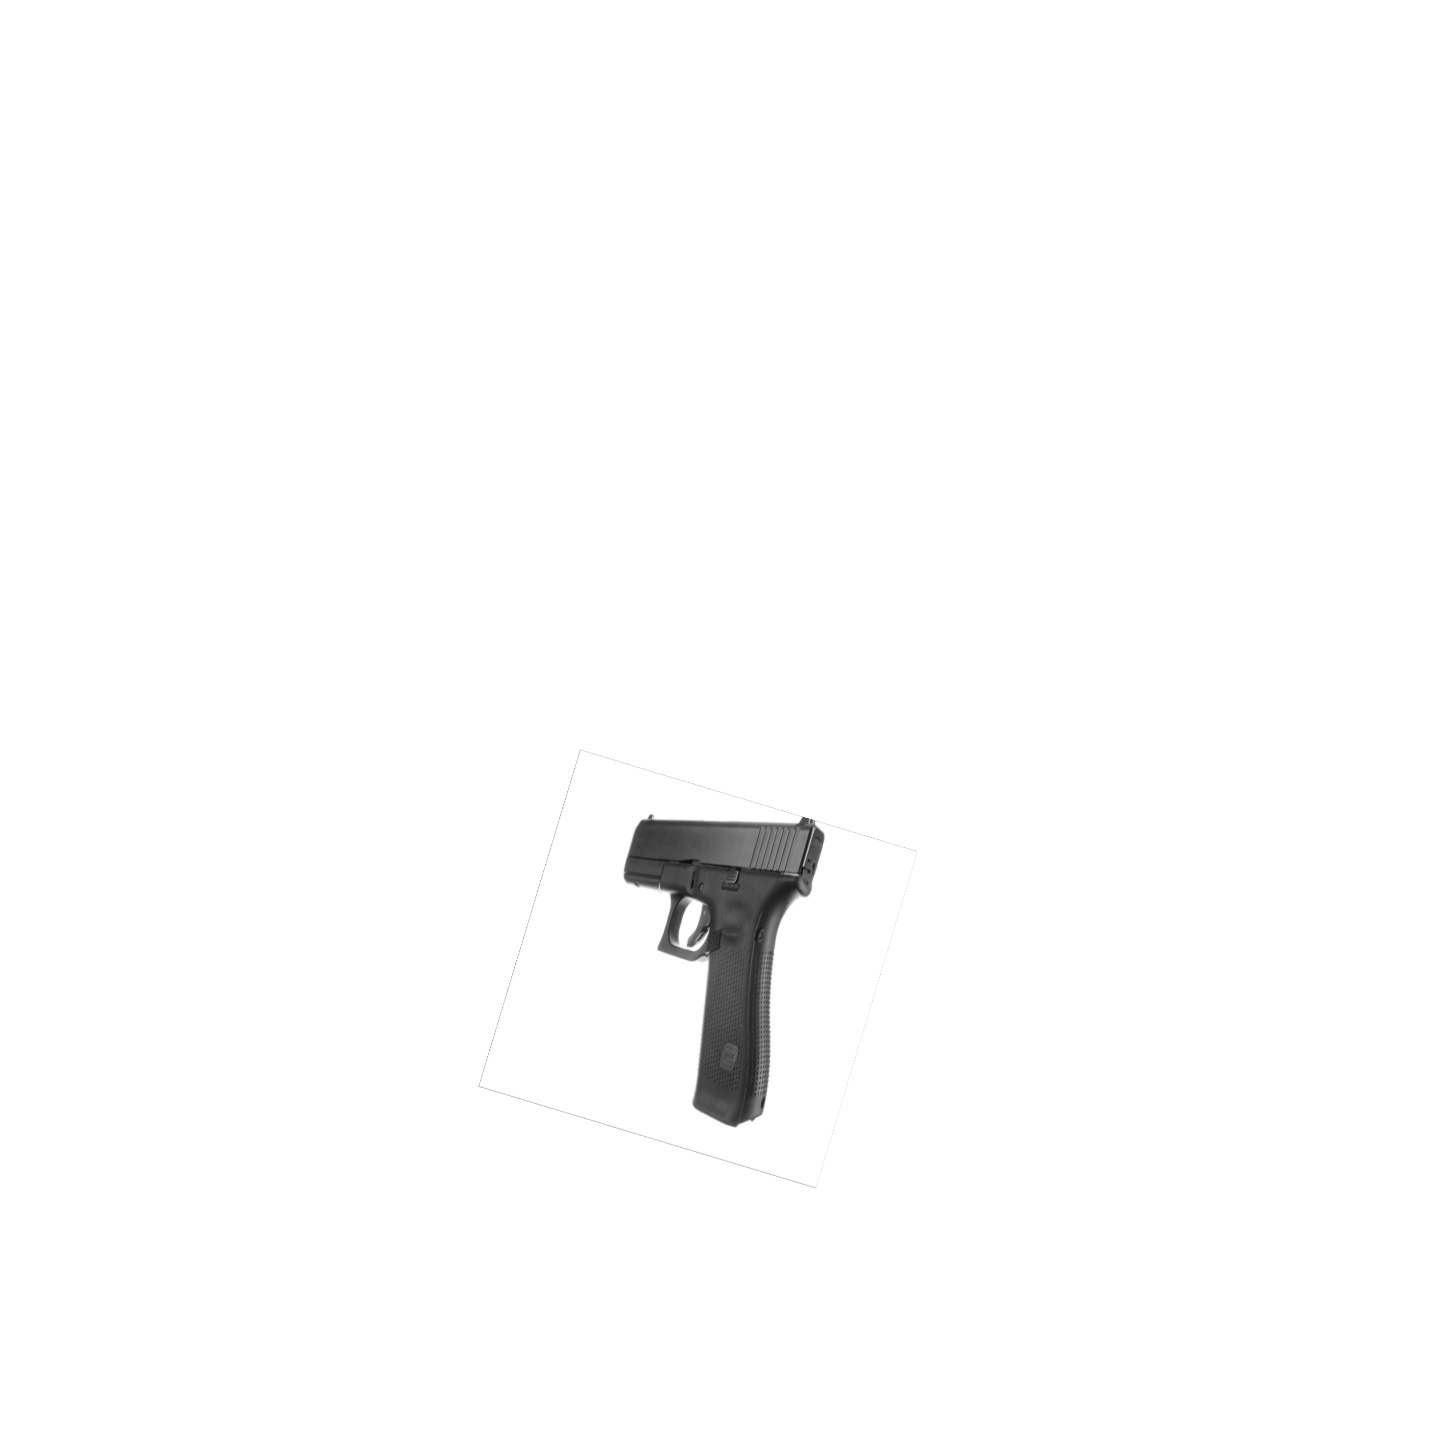gun: (608, 795, 834, 1129)
